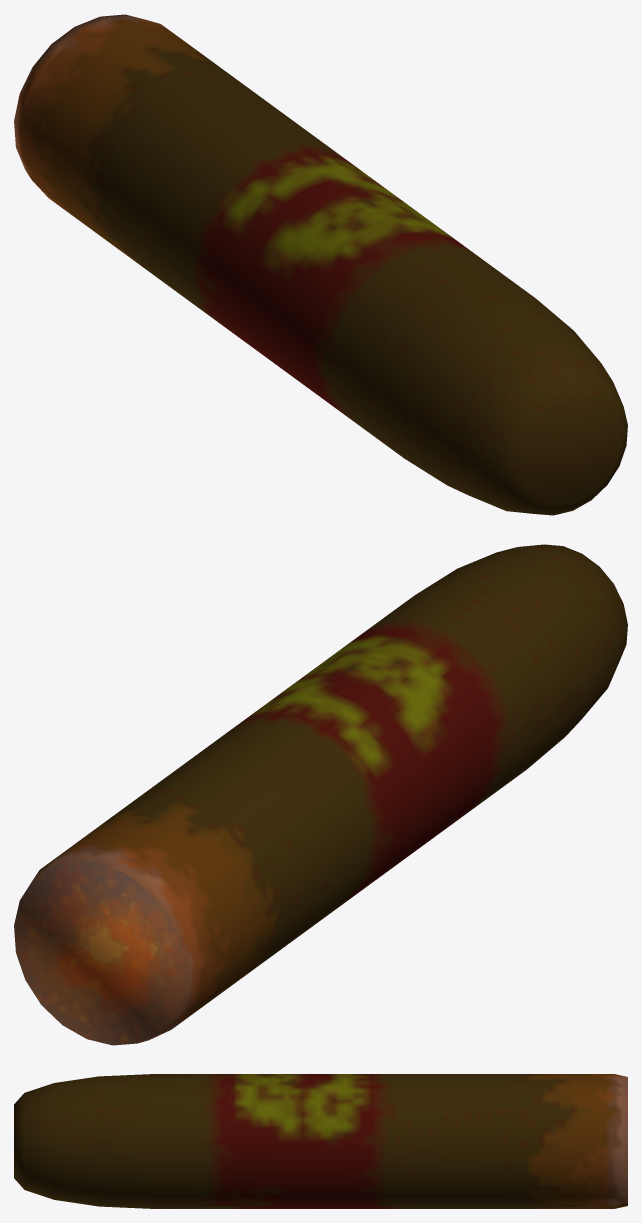
Rendered from Cigar.fbx.
3 renders of one model, top to bottom at view 1: azimuth 30°, elevation 25°; view 2: azimuth 150°, elevation 25°; view 3: azimuth 270°, elevation 25°, orthographic. The views are drawn at different scales.
Parts seen in each view (by area): view 1: Cylinder; view 2: Cylinder; view 3: Cylinder.
Boxes of the visible parts, x1,y1,x2,y2 form: Cylinder: (14, 14, 627, 515); Cylinder: (14, 544, 627, 1045); Cylinder: (14, 1074, 627, 1208).
Size of the model in its own units: 52.56 by 52.41 by 239.
